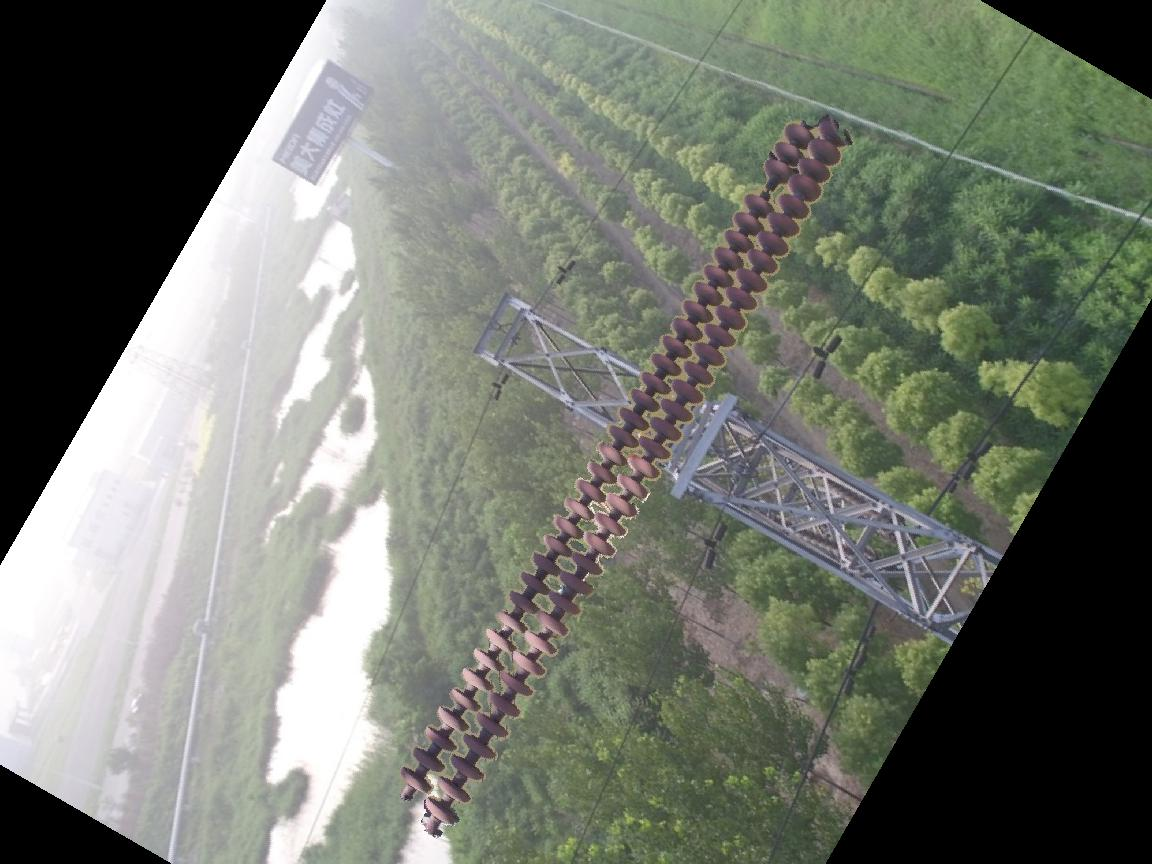insulator: (394, 107, 853, 837)
insulator_stringdrop: (741, 156, 795, 218)
